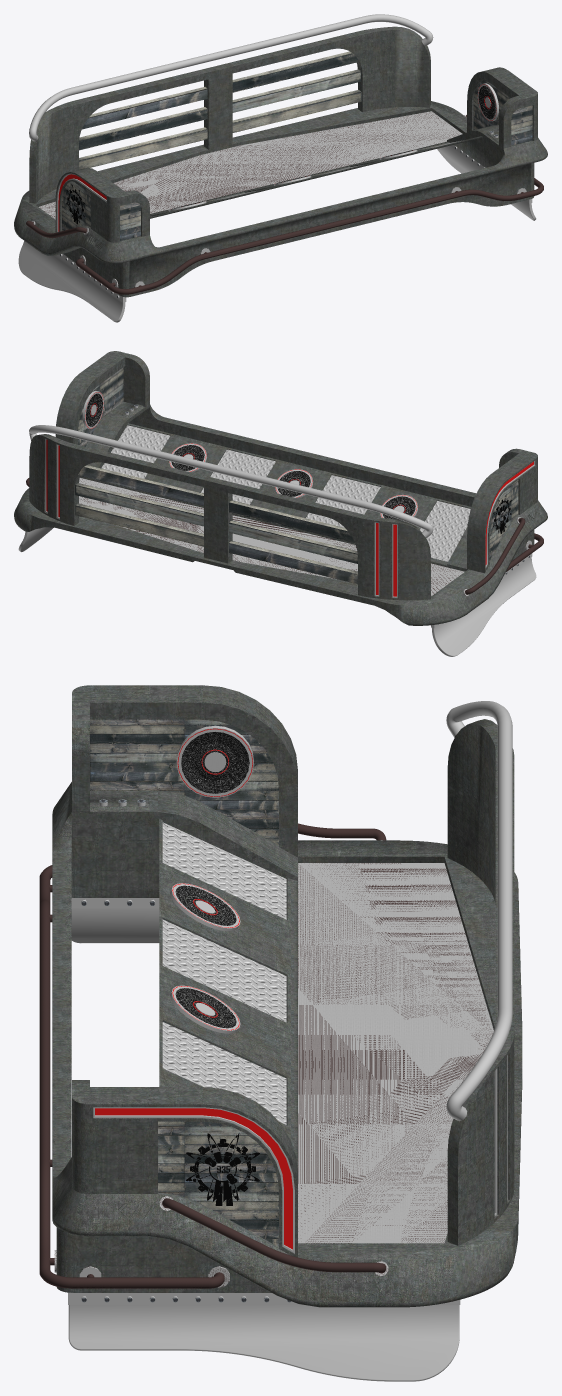
File: Main Car.dae
3 views of the same model, one above another, from view 1: azimuth 30°, elevation 25°; view 2: azimuth 150°, elevation 25°; view 3: azimuth 270°, elevation 25° (orthographic). The views are drawn at different scales.
Visible parts, largest first — view 1: Component (×13); view 2: Component (×15), Component_7 (×4); view 3: Component (×18), Component_7 (×3).
Boxes of the visible parts, x1,y1,x2,y2 form: Component (×13): (14, 14, 547, 322); Component (×15): (14, 351, 547, 656); Component_7 (×4): (86, 393, 415, 520); Component (×18): (39, 685, 522, 1381); Component_7 (×3): (175, 732, 249, 1028).
Bounding box in the file's own units: 107 × 50 × 35.07.
11 materials, 7 textured.
